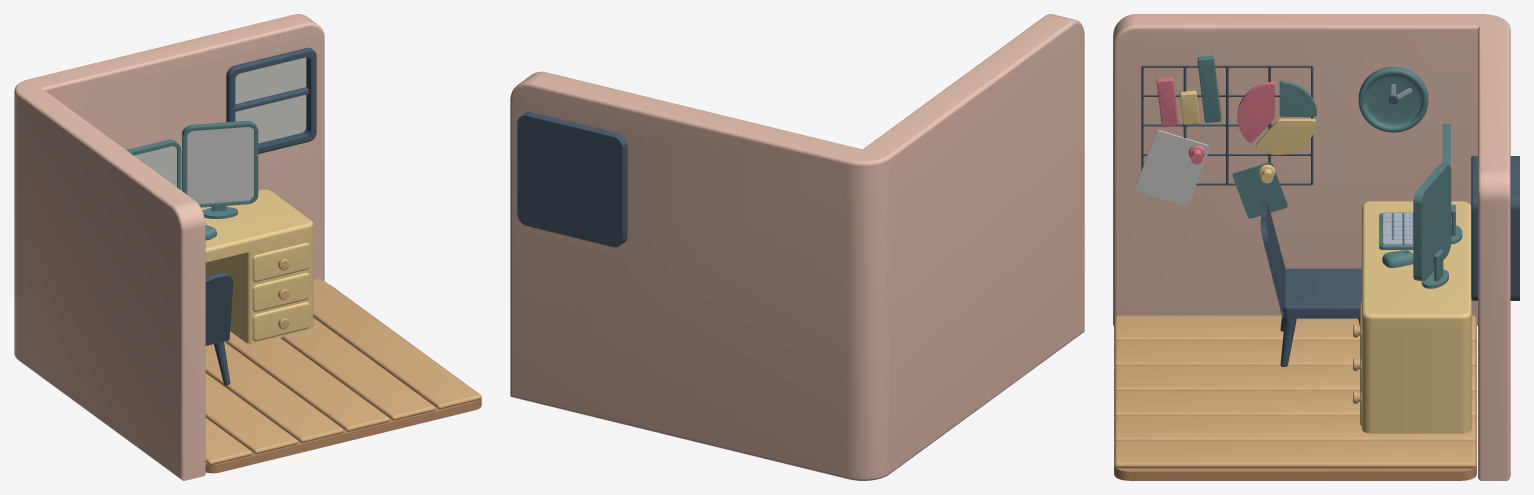
The model's file is office-3d.glb.
The picture shows the model from 3 angles, left to right: view 1: azimuth 30°, elevation 25°; view 2: azimuth 150°, elevation 25°; view 3: azimuth 270°, elevation 25°; orthographic projection. The views are drawn at different scales.
Visible parts, largest first — view 1: Wall, Floor - 2, Table, Window, Monitor - 2, Floor - 1, Chair, Monitor - 1; view 2: Wall, Window; view 3: Wall, Floor - 2, Table, Chair, Floor - 1, Chart - 2, Clock, Monitor - 2, Paper - 1, Chart - 1, Window, Framework (+4 smaller).
Part boxes in pixels (x1,y1,x2,y2): Wall: [14, 14, 324, 480]; Floor - 2: [205, 278, 481, 465]; Table: [201, 189, 313, 343]; Window: [226, 47, 316, 153]; Monitor - 2: [182, 120, 258, 207]; Floor - 1: [205, 285, 481, 473]; Chair: [205, 272, 233, 385]; Monitor - 1: [126, 139, 181, 189]; Wall: [510, 14, 1084, 480]; Window: [517, 112, 627, 247]; Wall: [1113, 14, 1510, 480]; Floor - 2: [1114, 315, 1475, 468]; Table: [1353, 201, 1471, 433]; Chair: [1260, 202, 1361, 366]; Floor - 1: [1114, 319, 1476, 480]; Chart - 2: [1237, 80, 1316, 154]; Clock: [1358, 66, 1428, 132]; Monitor - 2: [1413, 164, 1451, 281]; Paper - 1: [1135, 130, 1209, 206]; Chart - 1: [1156, 55, 1221, 127]; Window: [1471, 156, 1519, 300]; Framework: [1141, 65, 1313, 185].
Bounding box in the file's own units: 2.98 × 2.49 × 3.05.
